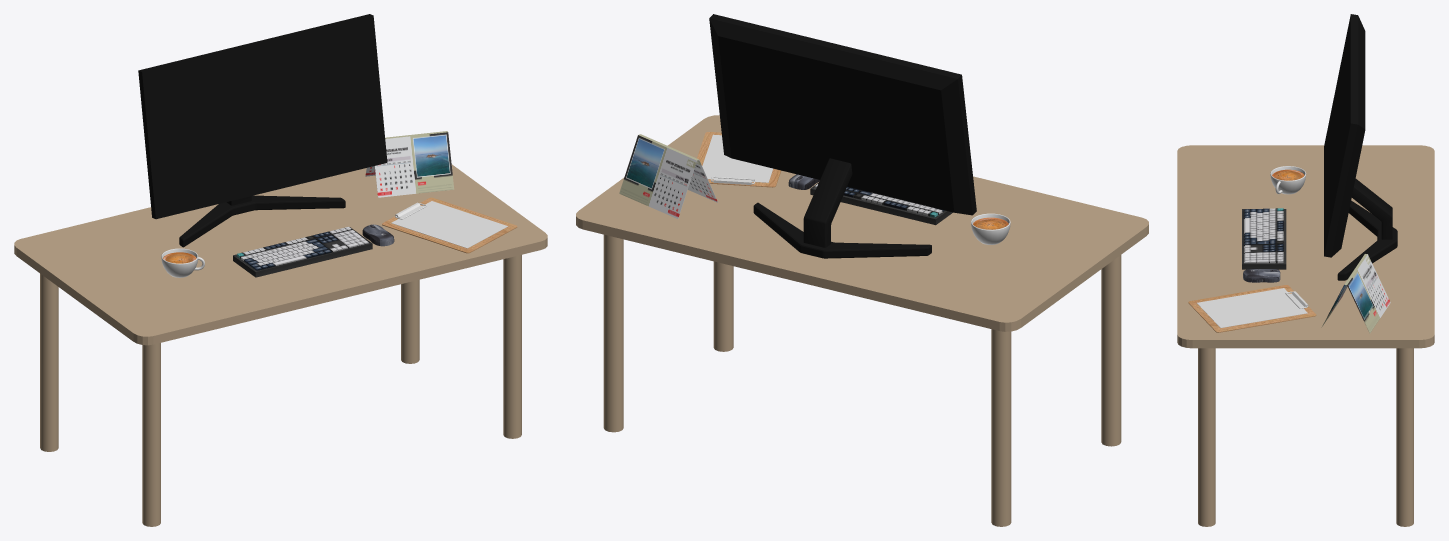
The model's file is Meja_Kasir.fbx.
3 views of the same model, side by side, from view 1: azimuth 30°, elevation 25°; view 2: azimuth 150°, elevation 25°; view 3: azimuth 270°, elevation 25° (orthographic). The views are drawn at different scales.
Visible parts, largest first — view 1: Cube.025, Cube.023, Cube.026, Plane.001, Cube.024, Torus; view 2: Cube.025, Cube.023, Cube.026, Plane.001, Cube.024, Torus; view 3: Cube.025, Cube.023, Plane.001, Cube.024, Cube.026, Torus, Plane.
Boxes of the visible parts, x1=… form: Cube.025: x1=14, y1=164, x2=547, y2=526; Cube.023: x1=138, y1=14, x2=387, y2=247; Cube.026: x1=365, y1=131, x2=454, y2=197; Plane.001: x1=382, y1=197, x2=517, y2=253; Cube.024: x1=233, y1=226, x2=372, y2=277; Torus: x1=161, y1=248, x2=204, y2=277; Cube.025: x1=576, y1=115, x2=1148, y2=526; Cube.023: x1=709, y1=14, x2=976, y2=258; Cube.026: x1=619, y1=134, x2=717, y2=218; Plane.001: x1=697, y1=132, x2=780, y2=187; Cube.024: x1=810, y1=182, x2=952, y2=225; Torus: x1=971, y1=213, x2=1010, y2=244; Cube.025: x1=1177, y1=145, x2=1434, y2=526; Cube.023: x1=1324, y1=14, x2=1397, y2=280; Plane.001: x1=1188, y1=285, x2=1316, y2=332; Cube.024: x1=1242, y1=208, x2=1286, y2=269; Cube.026: x1=1321, y1=254, x2=1390, y2=333; Torus: x1=1270, y1=166, x2=1306, y2=194; Plane: x1=1243, y1=268, x2=1280, y2=282.
Bounding box in the file's own units: 162 × 143 × 90.47.
9 materials, 5 textured.
